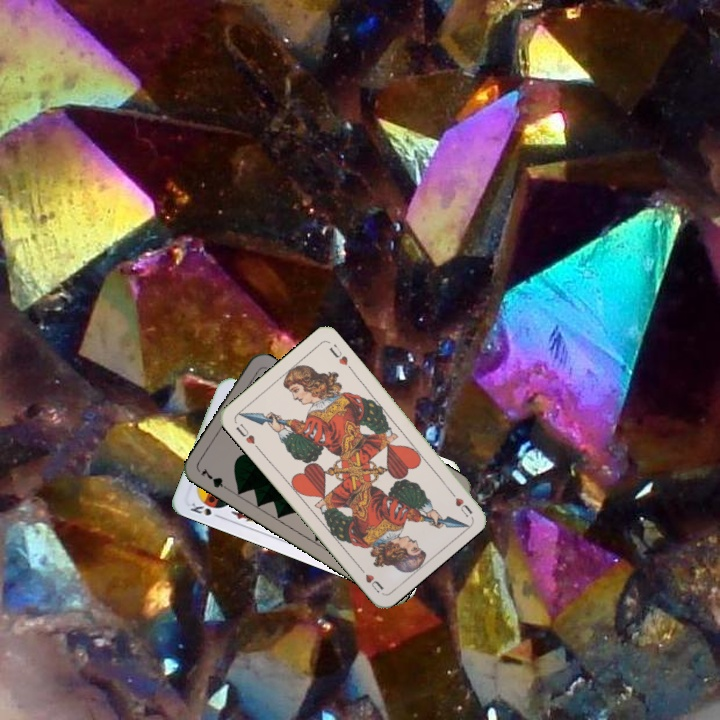G7: (197, 464, 233, 494)
HU: (444, 484, 475, 519), (232, 419, 261, 452)
SK: (186, 497, 225, 521)
